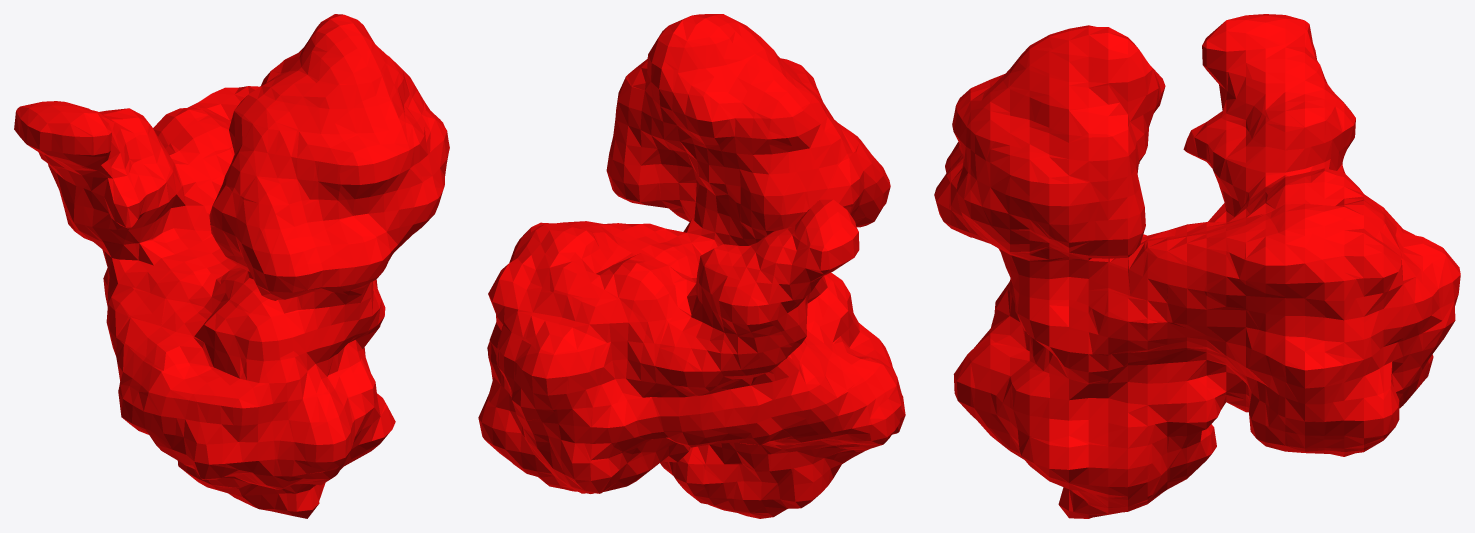
The model's file is sufC_coarse.dae.
The picture shows the model from 3 angles, left to right: view 1: azimuth 30°, elevation 25°; view 2: azimuth 150°, elevation 25°; view 3: azimuth 270°, elevation 25°; orthographic projection. The views are drawn at different scales.
Visible parts, largest first — view 1: sufC; view 2: sufC; view 3: sufC.
Part boxes in pixels (x1,y1,x2,y2): sufC: [14, 14, 449, 518]; sufC: [478, 14, 905, 518]; sufC: [934, 14, 1460, 518].
Size of the model in its own units: 80.58 by 108 by 100.
